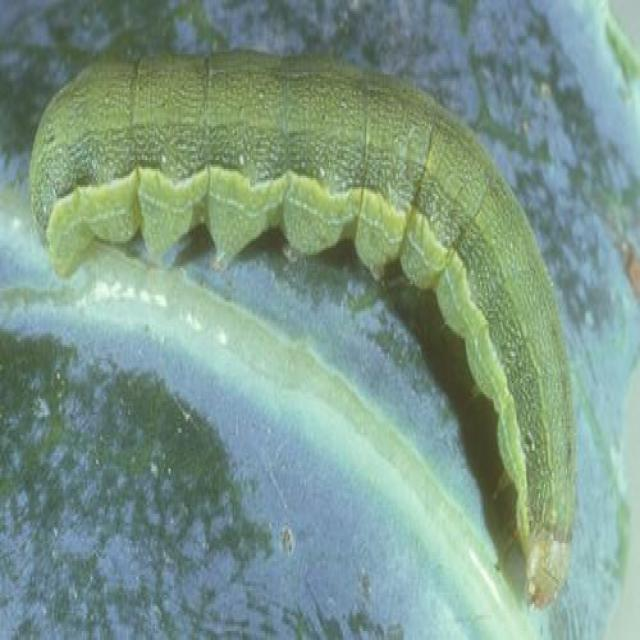BeetArmyWorm-Larva-: (25, 49, 579, 611)
